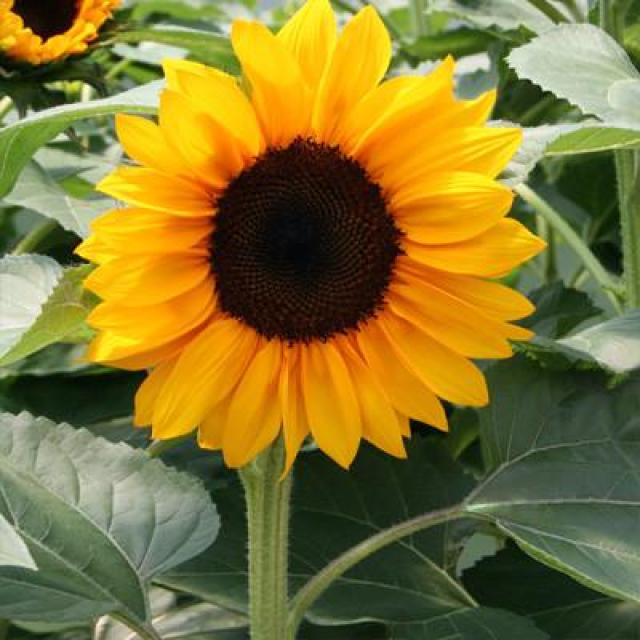sunflower: (69, 0, 554, 483)
